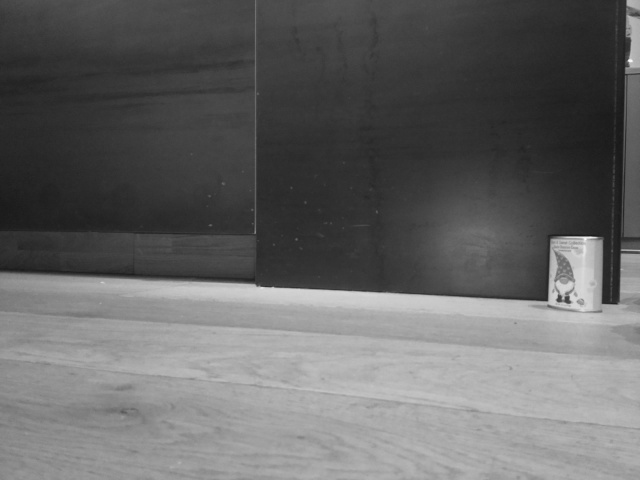gnome: (551, 247, 588, 306)
